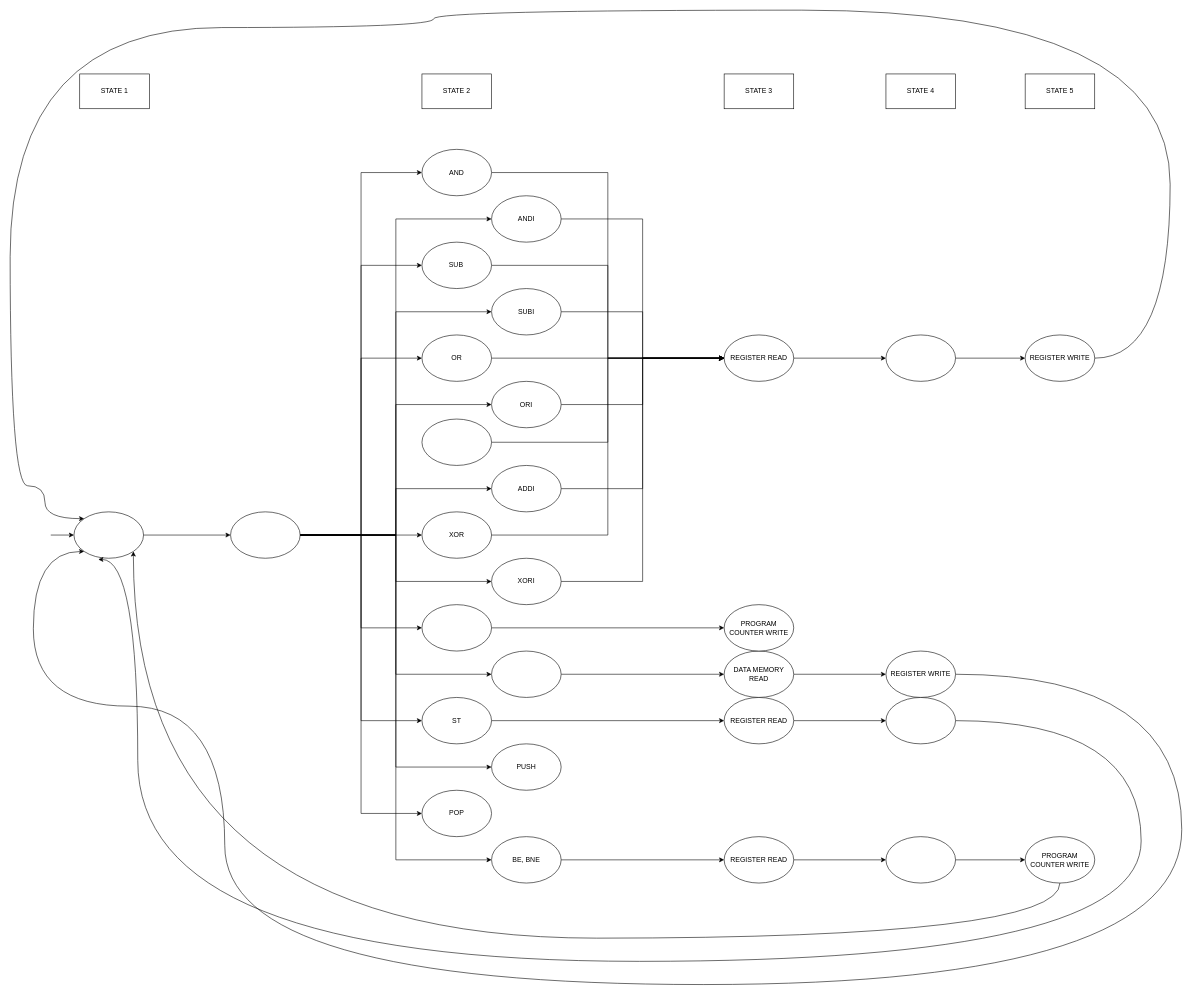
This 1192x995 diagram has some shape labels left out. Each missing label, with the centre of its shape:
ADD: point (456, 441)
ALU: point (920, 357)
BRANCH: point (920, 859)
DATA MEMORY WRITE: point (920, 720)
FETCH INSTRUCTION: point (265, 534)
JUMP: point (456, 627)
LD: point (526, 673)
PC READ: point (108, 534)
